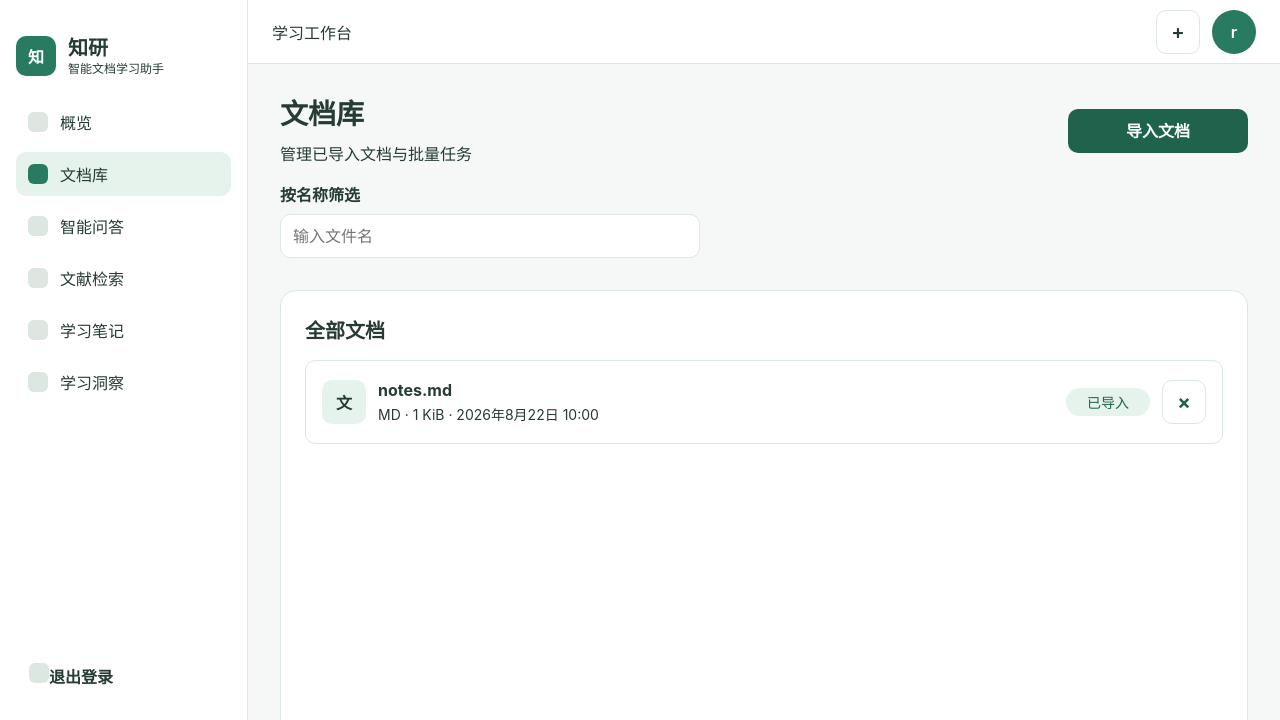
Scenario: DocumentsPage › opens an accessible delete confirmation and waits for server success
Click the button named "删除 notes.md" at [1184, 402], box [1162,380,1206,424]
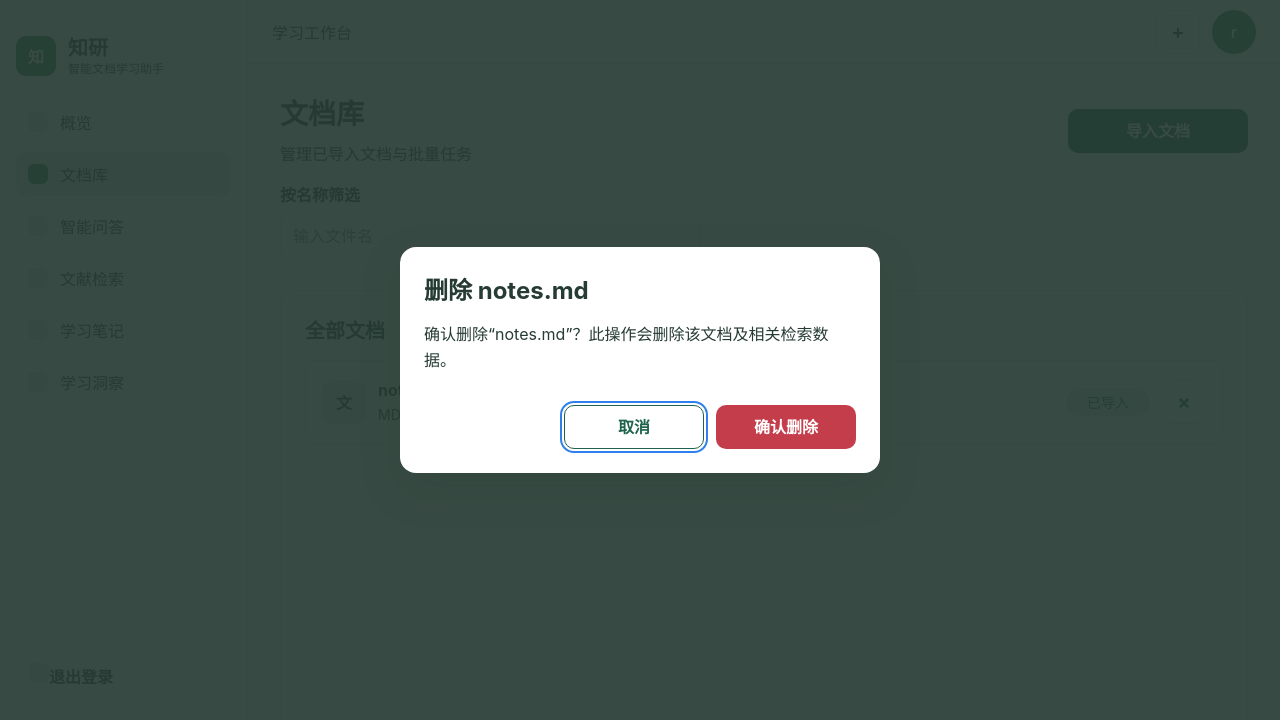
Check: the dialog "删除 notes.md" is shown, box [478,276,589,305]
Click the button "确认删除" at [786, 427], box [716,405,856,449]
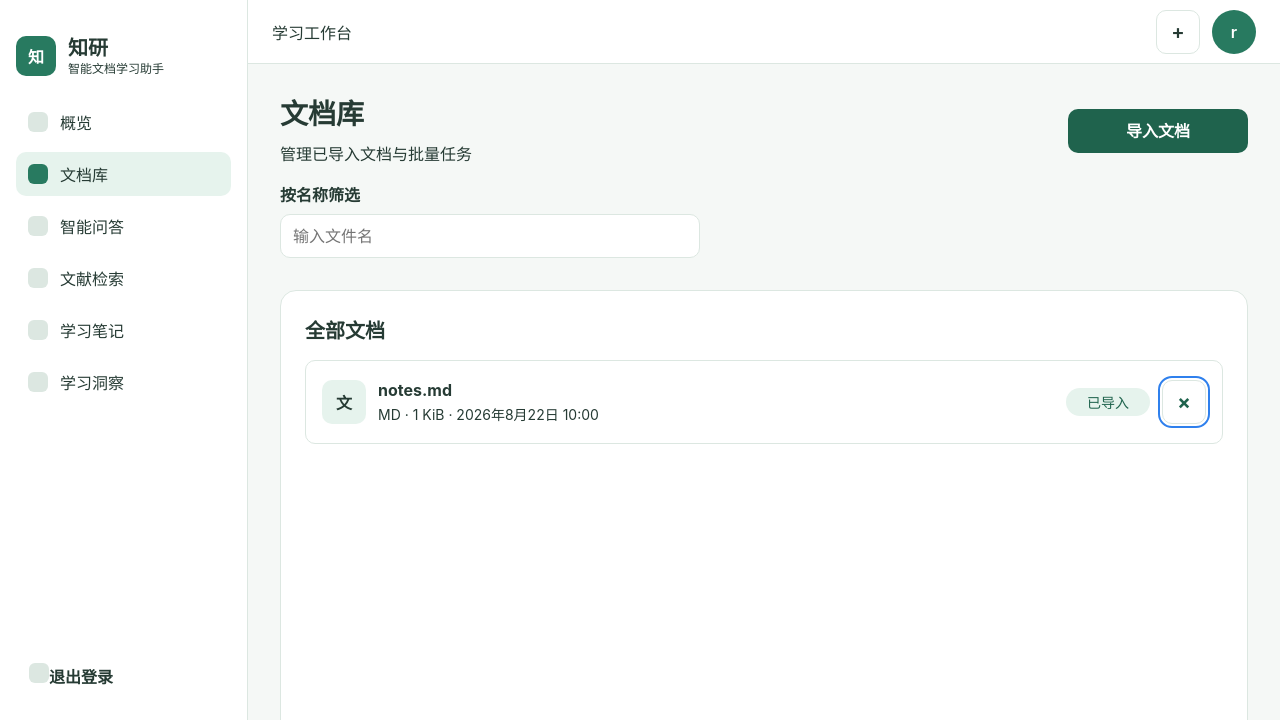
Check: the heading "删除 notes.md" is gone
